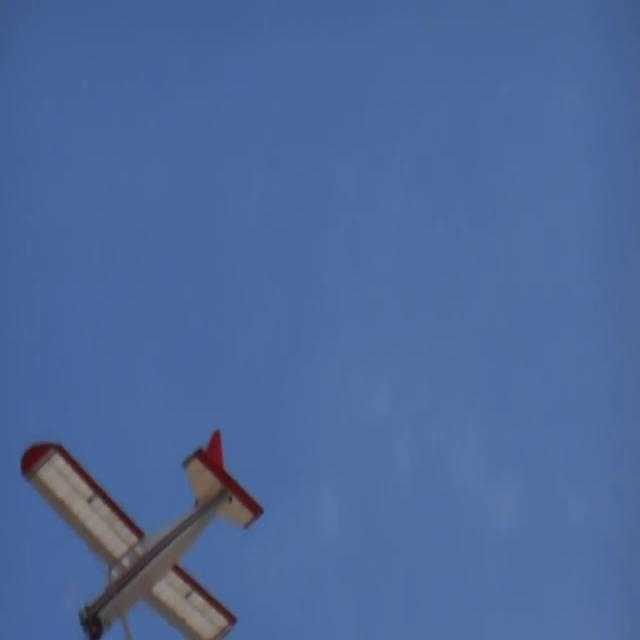iha: (19, 431, 266, 640)
